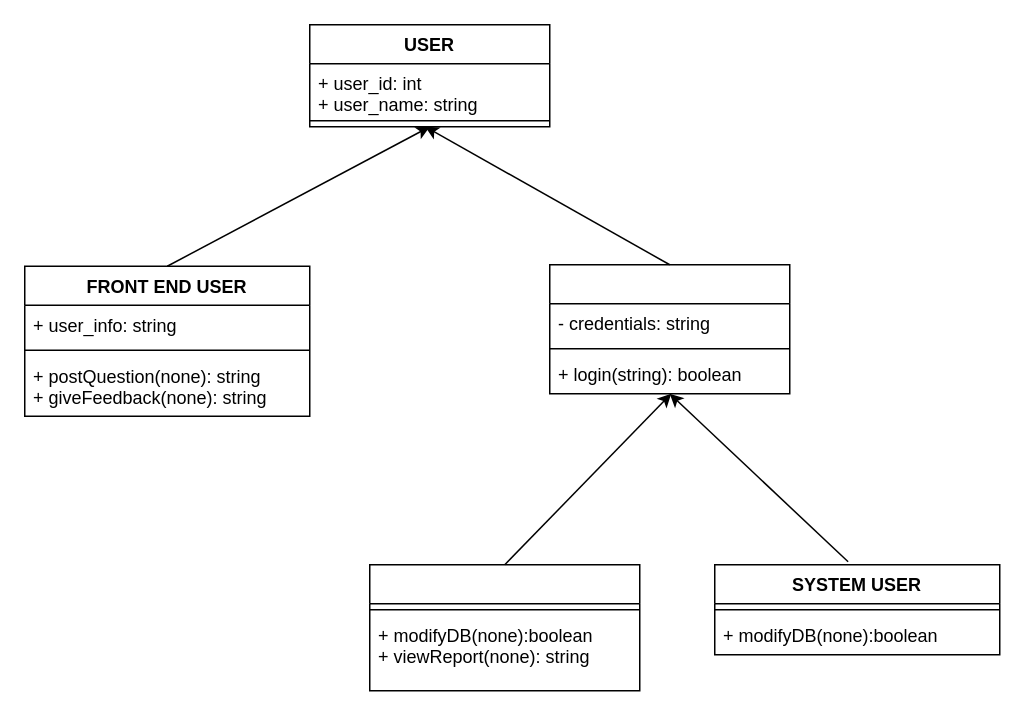
This 1025x716 diagram has some shape labels left out. The box of each missing label's shape, as (x1, y1, x2, y2) in pixels:
BACK END USER: (548, 263, 790, 394)
SYSTEM ADMIN: (368, 563, 640, 691)
